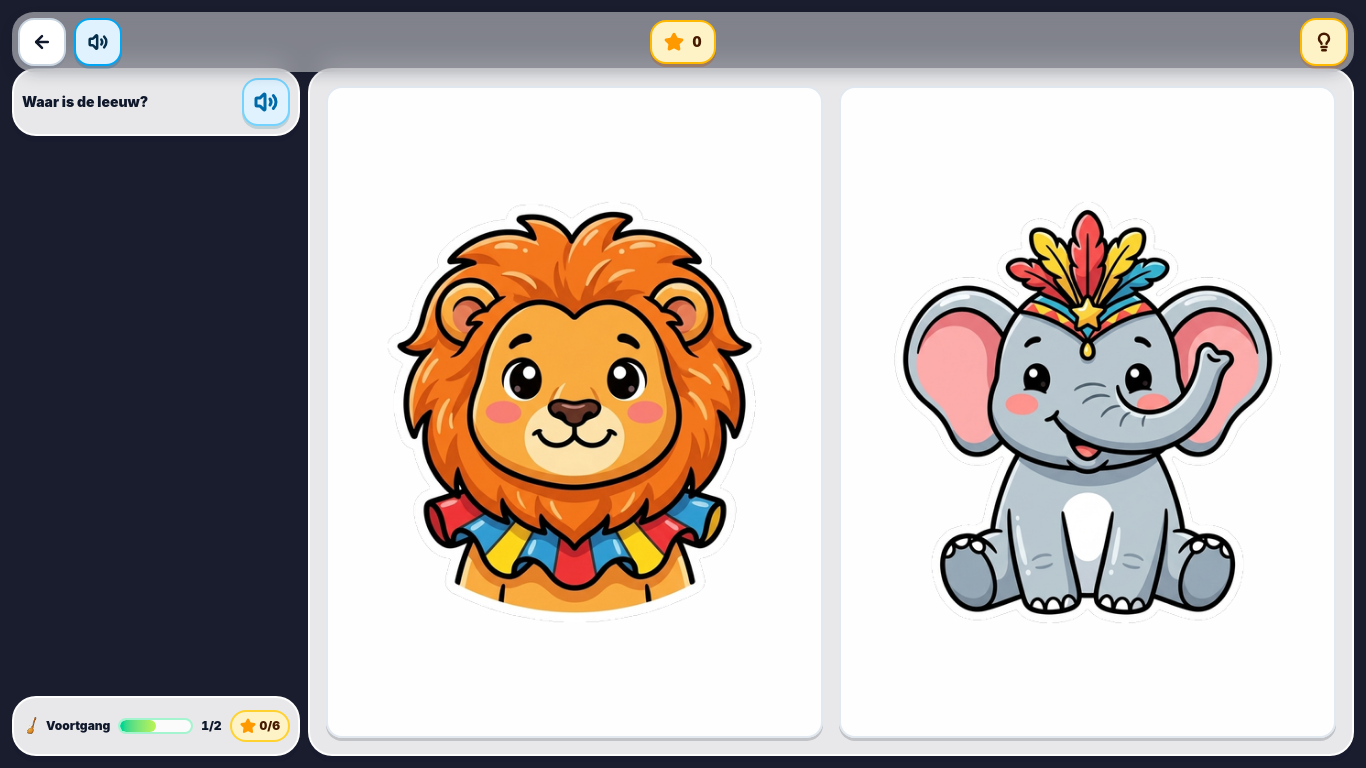
it: WordChoiceScreen afronding en resultaten › toont het resultatenoverzicht zodra alle opdrachten zijn voltooid en blijft in de game
The width and height of the screenshot is (1366, 768).
Expected: the text "1/2" is shown, [201,720,222,732]
# Opdracht 1: Kies het juiste antwoord (leeuw)
Click the button named "leeuw" at (574, 412), box [326,86,823,738]
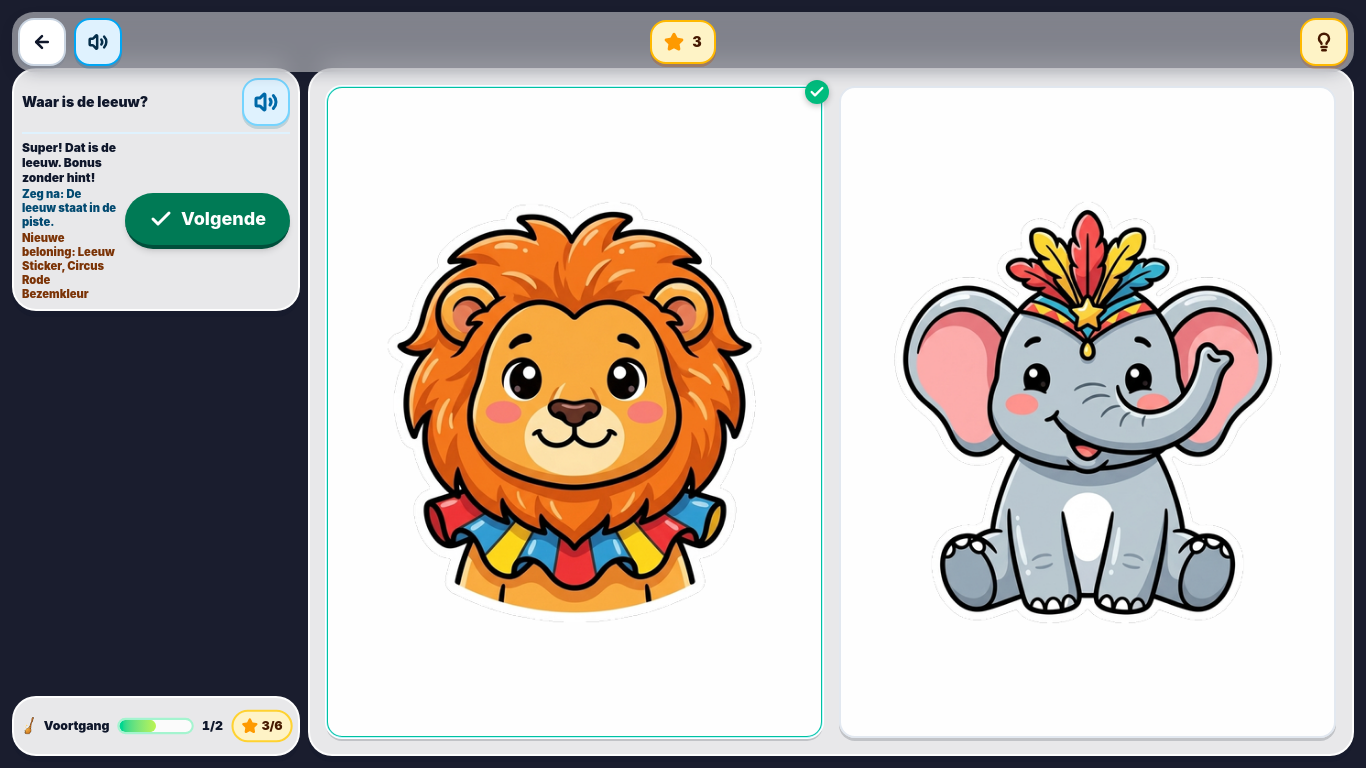
# Klik volgende
Click the button with test id "word-choice-next-button" at (208, 220), box [125,192,290,248]
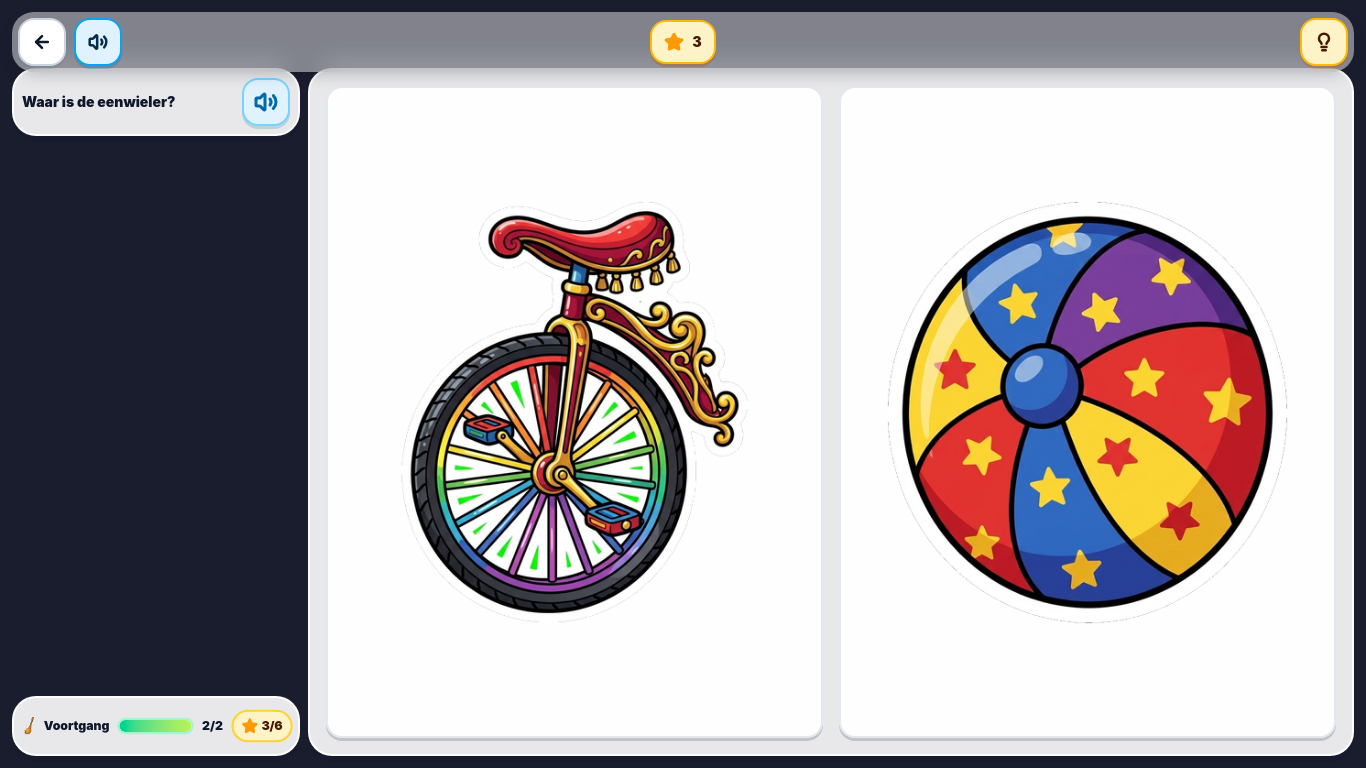
Now the text "2/2" is shown, box [202,720,223,732]
# Opdracht 2: Kies het juiste antwoord (eenwieler)
Click the button named "eenwieler" at (574, 412), box [326,86,823,738]
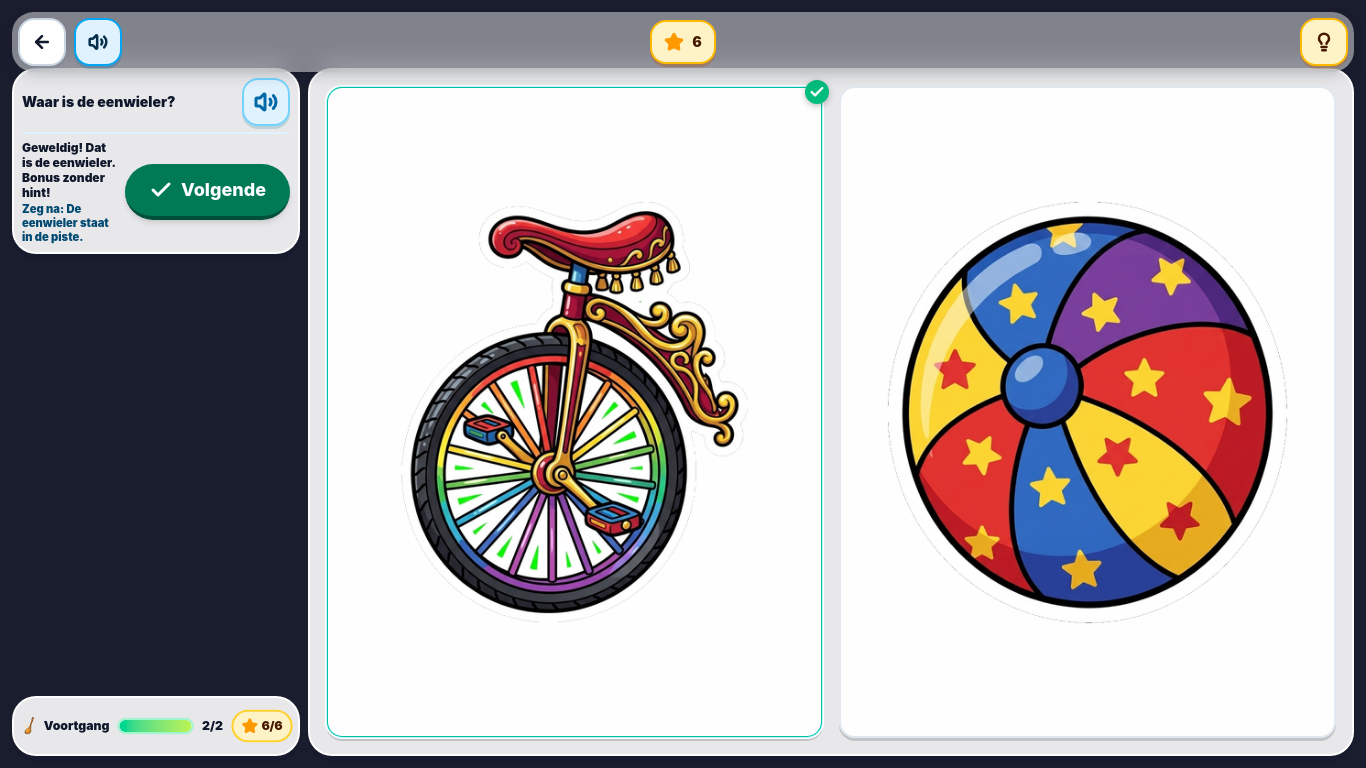
# Klik volgende / afronden
Click the button with test id "word-choice-next-button" at (208, 192), box [125,164,290,220]
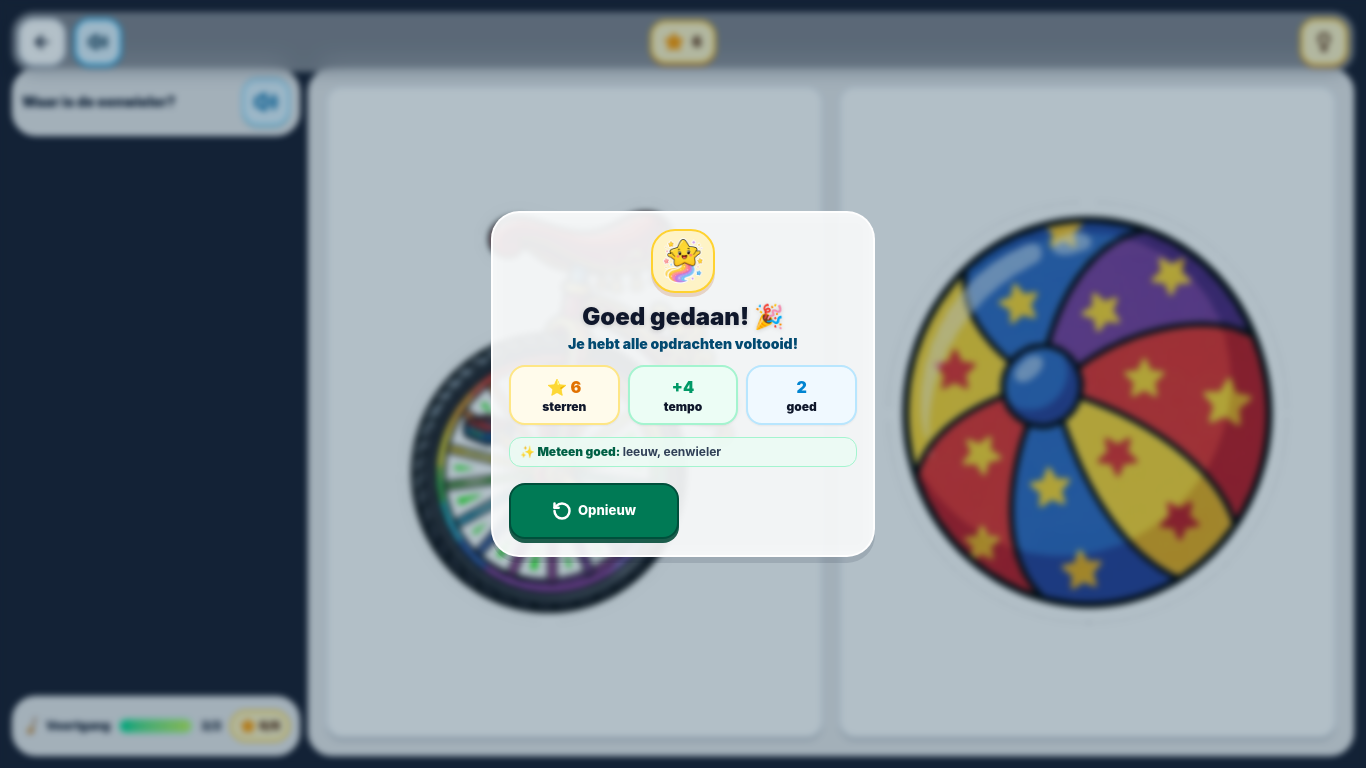
Now the element with test id "word-choice-round-summary" is shown
Now the heading "Goed gedaan! 🎉" is shown, box [582,302,784,331]
Now the text "Je hebt alle opdrachten voltooid!" is shown, box [568,335,798,352]
